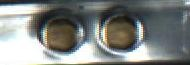joints: (27, 5, 89, 58), (92, 4, 147, 57)
